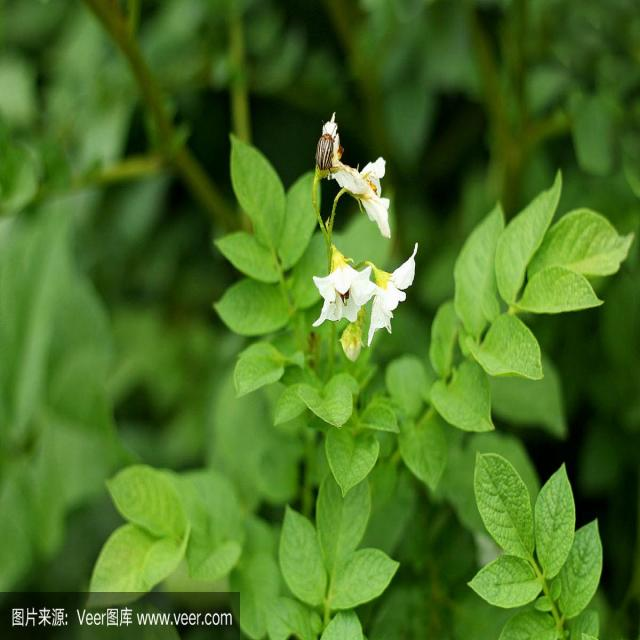ShuCaiHuaBanChong-Grown-: (302, 123, 344, 175)
